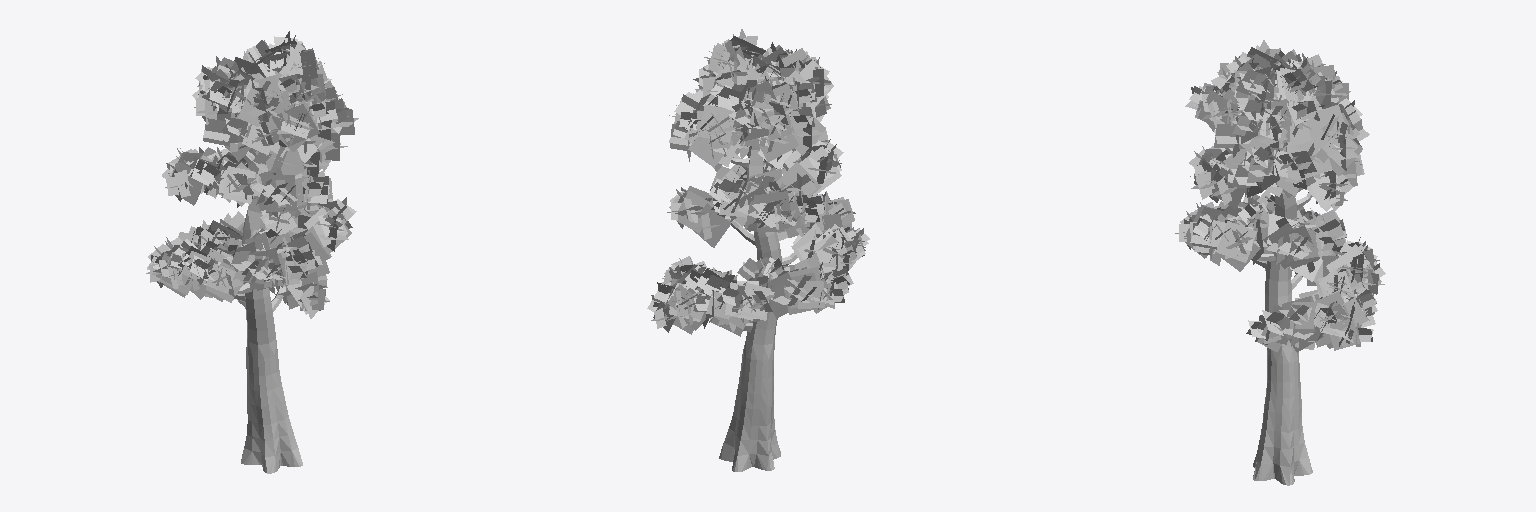
File: TallThick_5.obj
3 views of the same model, side by side, from view 1: azimuth 30°, elevation 25°; view 2: azimuth 150°, elevation 25°; view 3: azimuth 270°, elevation 25° (orthographic).
Visible parts, largest first — view 1: TallThick_5; view 2: TallThick_5; view 3: TallThick_5.
Part boxes in pixels (x1,y1,x2,y2): TallThick_5: (146,31,358,473); TallThick_5: (647,29,869,471); TallThick_5: (1175,40,1385,485).
Bounding box in the file's own units: 8.75 × 18.85 × 8.7.